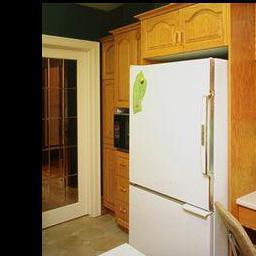Electrodomestico: (126, 56, 216, 245)
Puerta: (43, 45, 92, 227)
